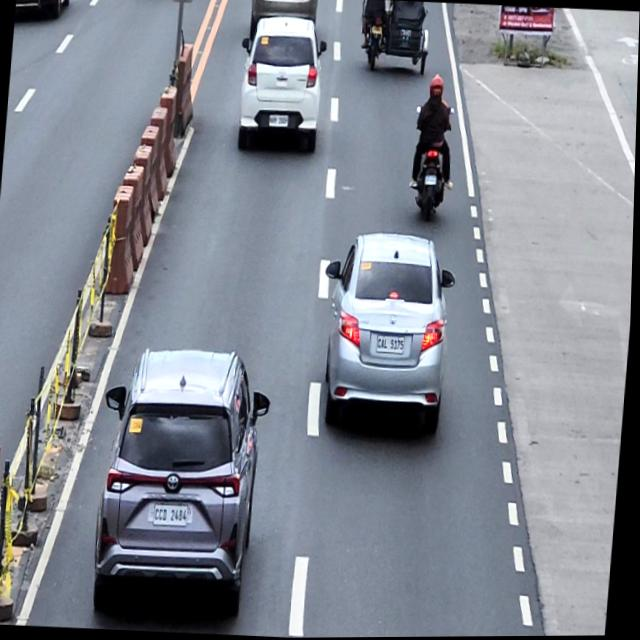Car: (90, 343, 277, 626), (313, 228, 462, 443), (232, 14, 332, 157), (249, 0, 319, 31), (14, 0, 71, 23)
License-Plate: (155, 503, 192, 528), (378, 335, 408, 355), (269, 114, 291, 127), (426, 174, 438, 187), (372, 26, 383, 36)
Motorcycle: (408, 102, 458, 224)
Tricycle: (356, 0, 433, 77)
